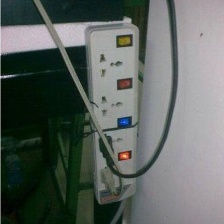three_eye_plug: (82, 18, 144, 208)
